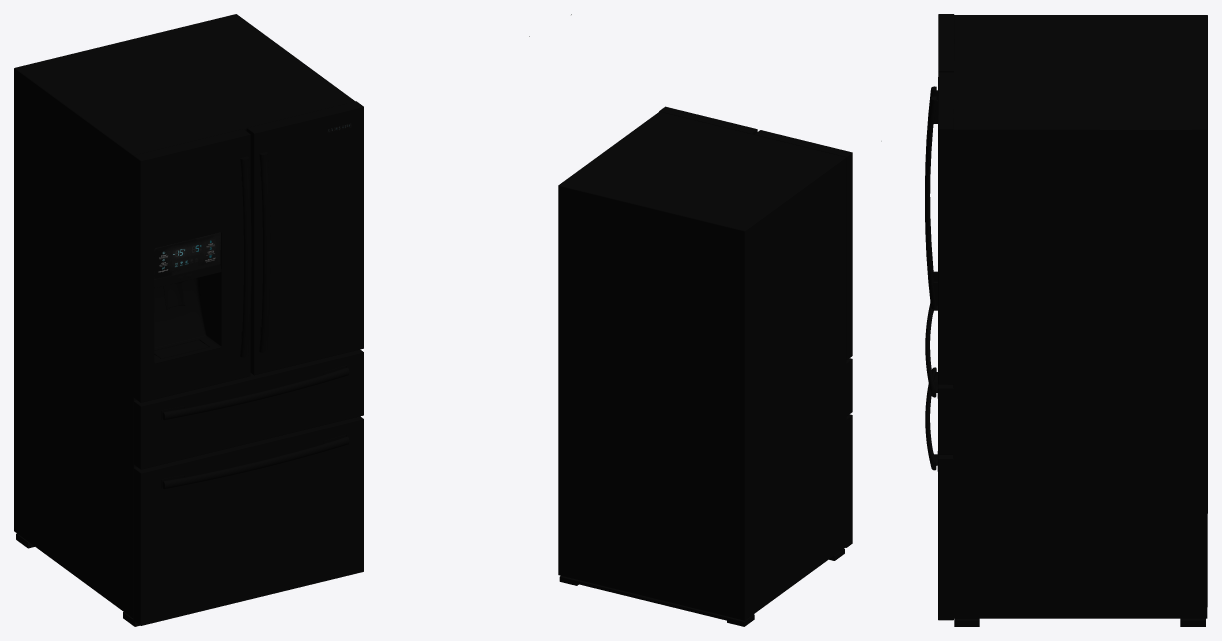
File: refrigerator_big.glb
3 views of the same model, side by side, from view 1: azimuth 30°, elevation 25°; view 2: azimuth 150°, elevation 25°; view 3: azimuth 270°, elevation 25° (orthographic). The views are drawn at different scales.
Visible parts, largest first — view 1: ChamferBox018; view 2: ChamferBox018; view 3: ChamferBox018.
Part boxes in pixels (left/top/right/bottom): ChamferBox018: left=14, top=14, right=363, bottom=626; ChamferBox018: left=558, top=106, right=852, bottom=626; ChamferBox018: left=925, top=14, right=1207, bottom=626.
Size of the model in its own units: 1.39 by 1.95 by 1.03.
Materials: 4 (1 with a texture image).
